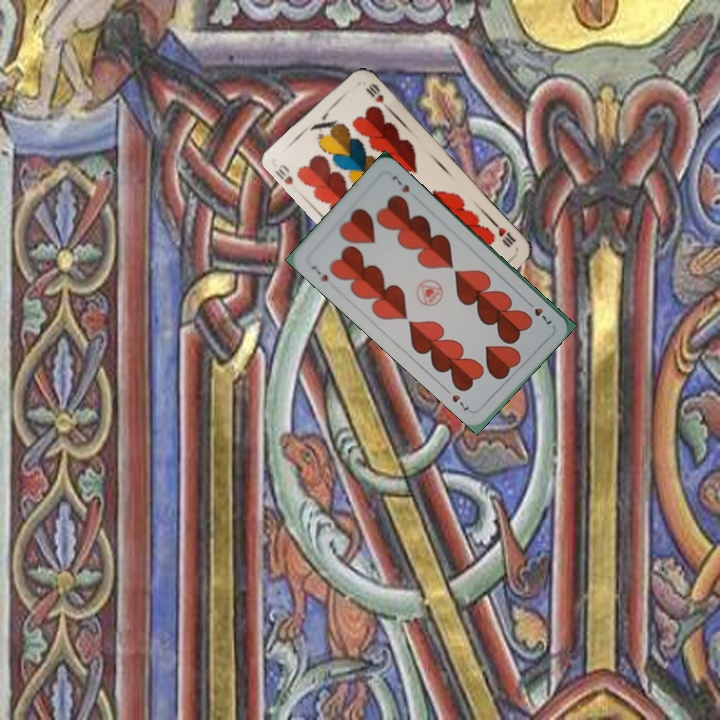H10: (488, 217, 518, 250), (271, 160, 296, 187)
H7: (522, 296, 554, 327), (307, 261, 331, 285)
